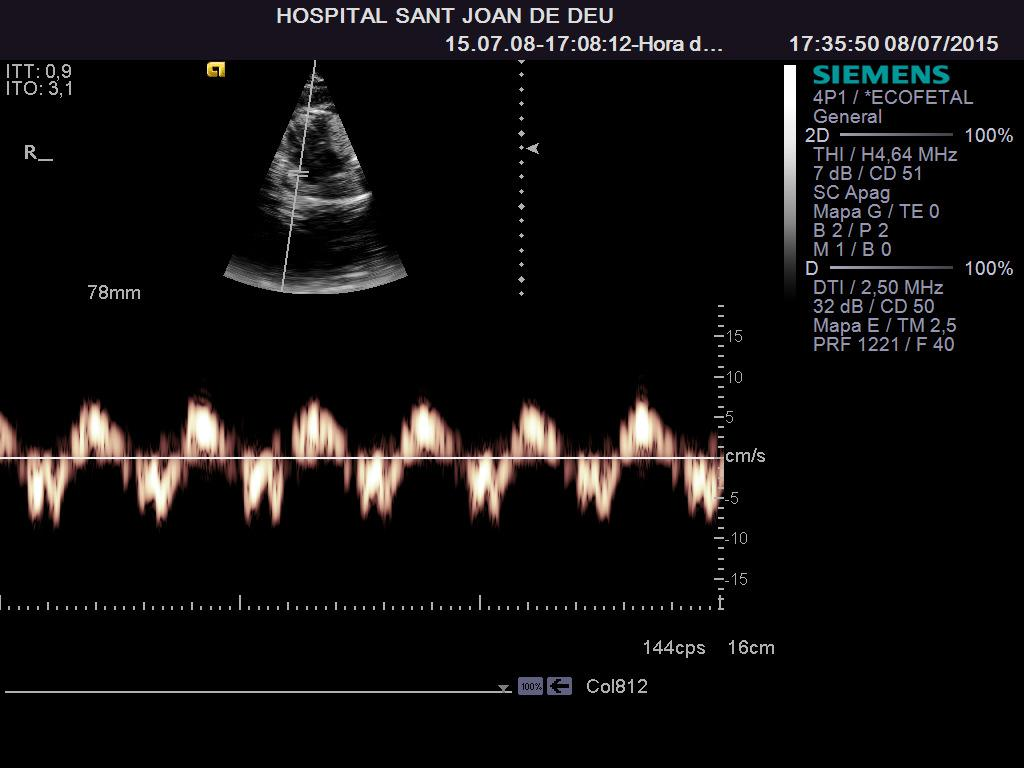Ultrasound-Waves: (0, 308, 715, 597)
